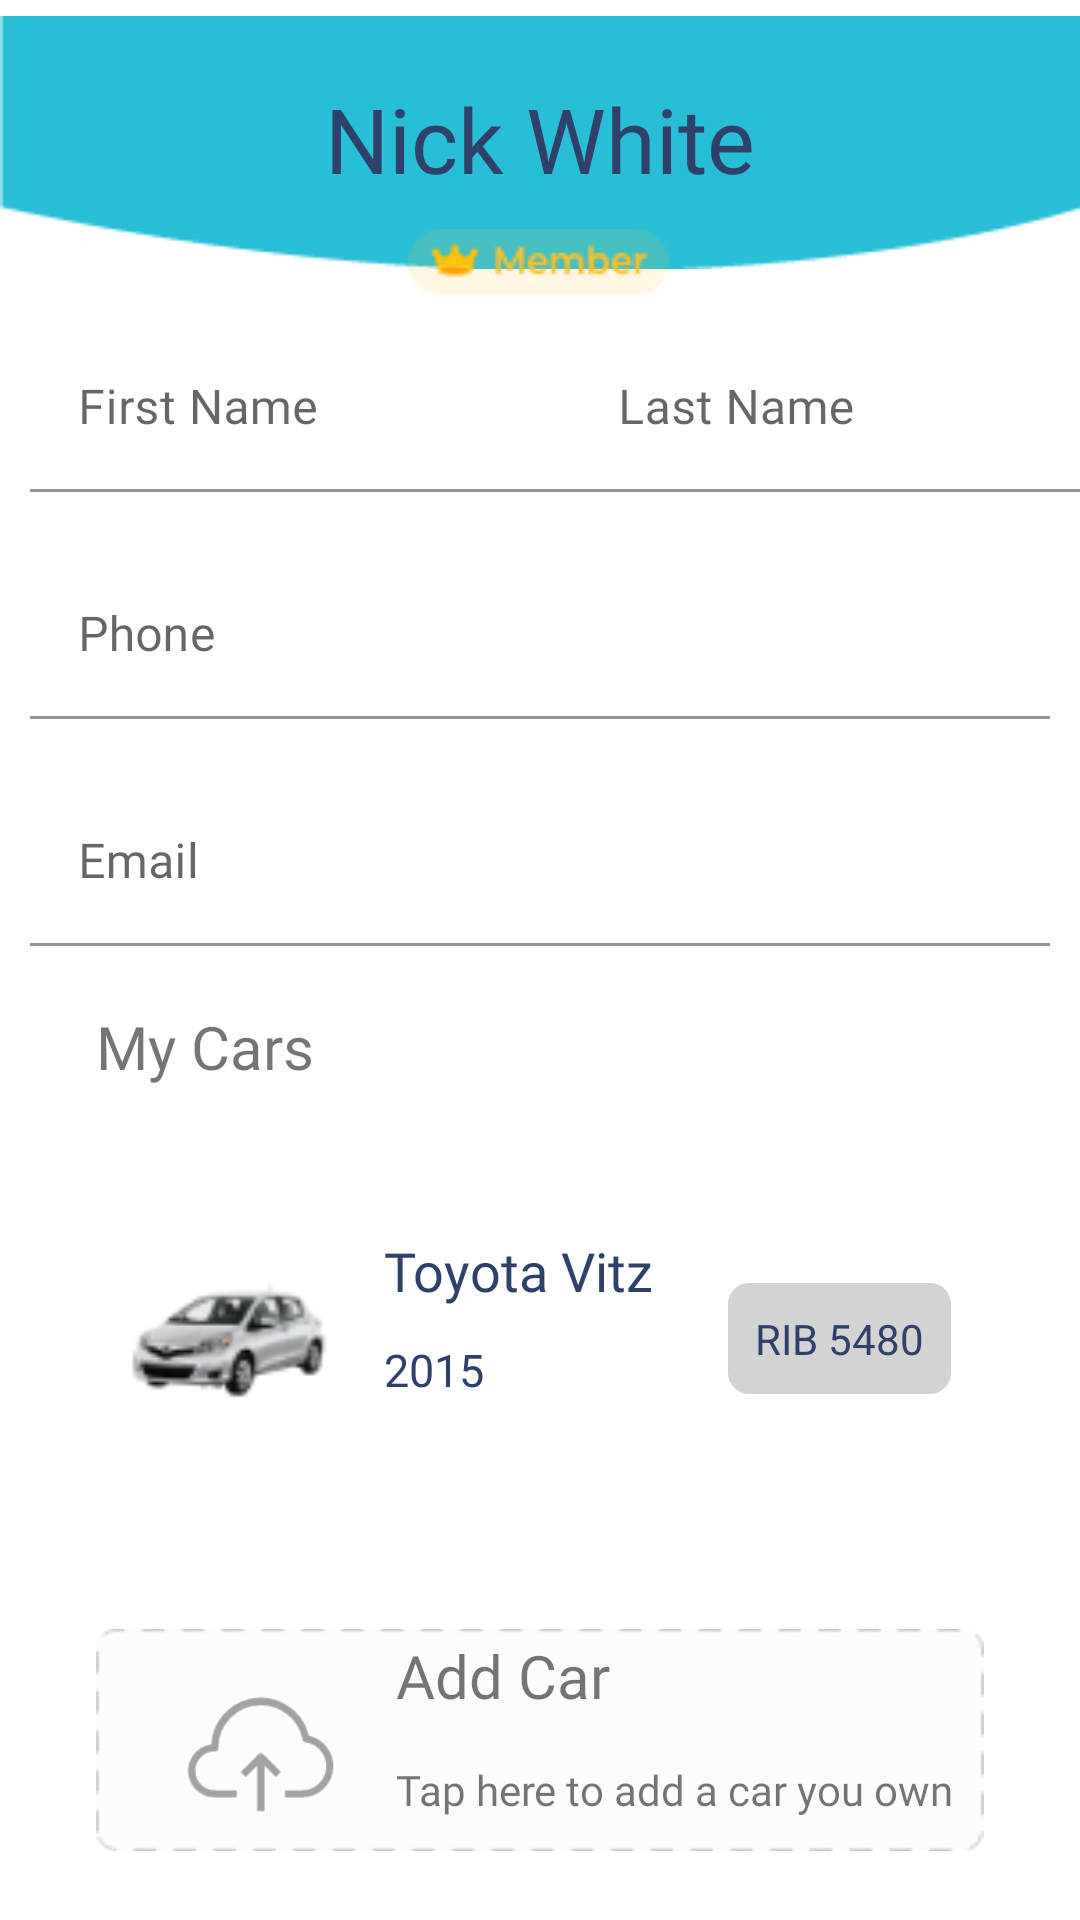

Icon bounding boxes for this 1080*1920 phone screenshot, format (x1, y1, x2, y2):
car: (132, 1291, 325, 1397)
upload: (187, 1697, 334, 1812)
